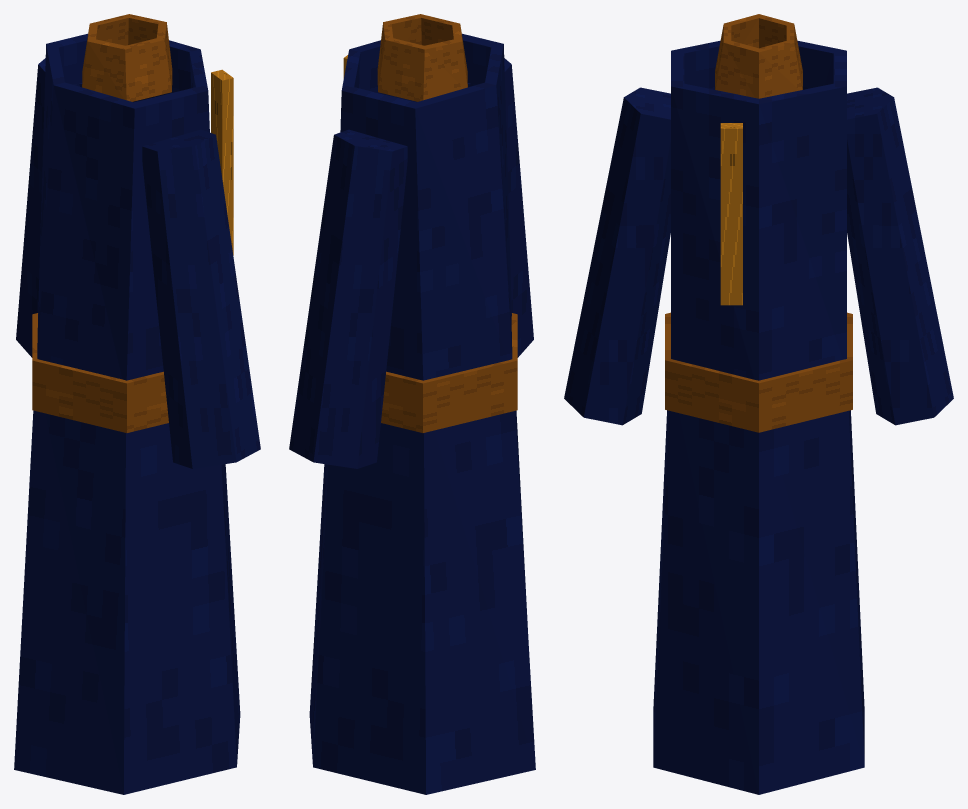
The model's file is deel.glb.
3 views of the same model, side by side, from view 1: azimuth 30°, elevation 25°; view 2: azimuth 150°, elevation 25°; view 3: azimuth 270°, elevation 25° (orthographic).
Parts seen in each view (by area): view 1: cuerpo, pecho, manga_der, faja, cuello, manga_izq, solapa; view 2: cuerpo, pecho, manga_izq, faja, cuello, manga_der; view 3: cuerpo, pecho, manga_izq, manga_der, faja, cuello, solapa.
Part boxes in pixels (x1,y1,x2,y2): cuerpo: (14,410,240,794); pecho: (37,33,209,380); manga_der: (142,129,260,468); faja: (32,313,168,432); cuello: (82,14,172,101); manga_izq: (16,58,82,357); solapa: (211,69,233,255); cuerpo: (309,410,535,794); pecho: (340,33,512,380); manga_izq: (289,129,407,468); faja: (381,313,517,432); cuello: (377,14,467,101); manga_der: (467,58,533,357); cuerpo: (653,410,864,794); pecho: (671,40,846,380); manga_izq: (847,87,953,425); manga_der: (564,87,670,425); faja: (665,312,852,432); cuello: (715,14,802,98); solapa: (720,123,742,305).
Bounding box in the file's own units: 0.4 × 1.2 × 0.6.
1 material, 1 textured.
